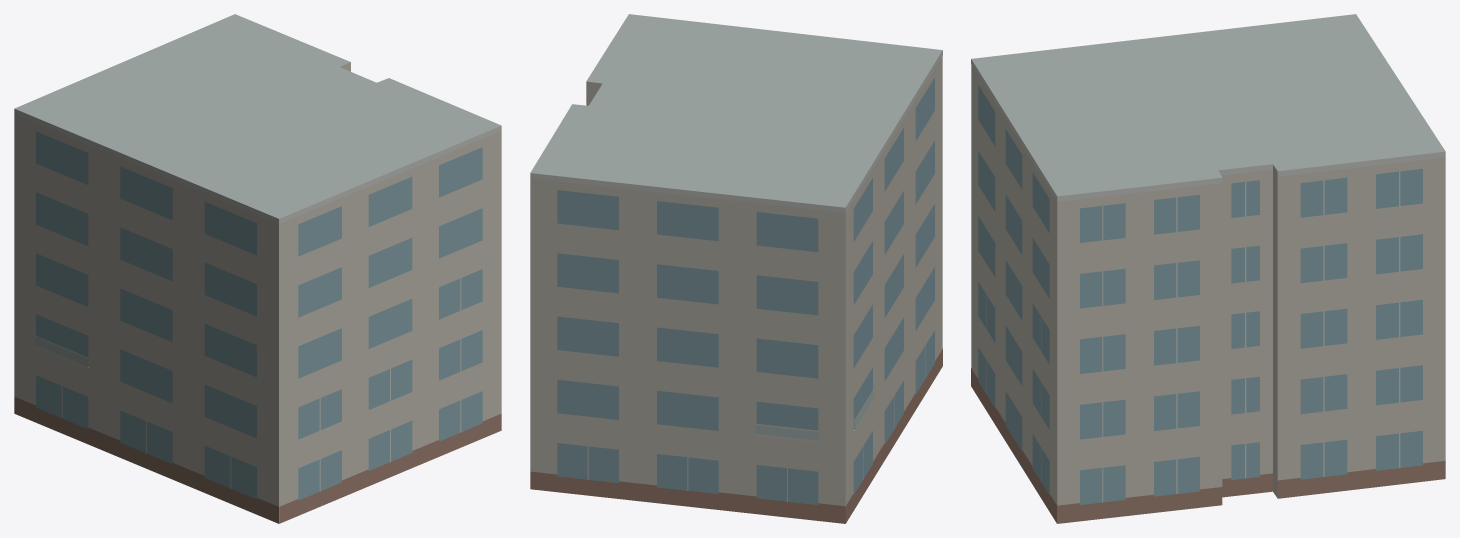
Rendered from survey-upis-32713769.glb.
The picture shows the model from 3 angles, left to right: view 1: azimuth 30°, elevation 25°; view 2: azimuth 150°, elevation 25°; view 3: azimuth 270°, elevation 25°; orthographic projection. The views are drawn at different scales.
Parts seen in each view (by area): view 1: survey-upis-32713769.tmp; view 2: survey-upis-32713769.tmp; view 3: survey-upis-32713769.tmp.
Boxes of the visible parts, box(x1,y1,x2,y2) form: survey-upis-32713769.tmp: box(14, 14, 501, 523); survey-upis-32713769.tmp: box(530, 14, 942, 523); survey-upis-32713769.tmp: box(971, 14, 1445, 523).
Size of the model in its own units: 17.1 by 14.3 by 18.79.
